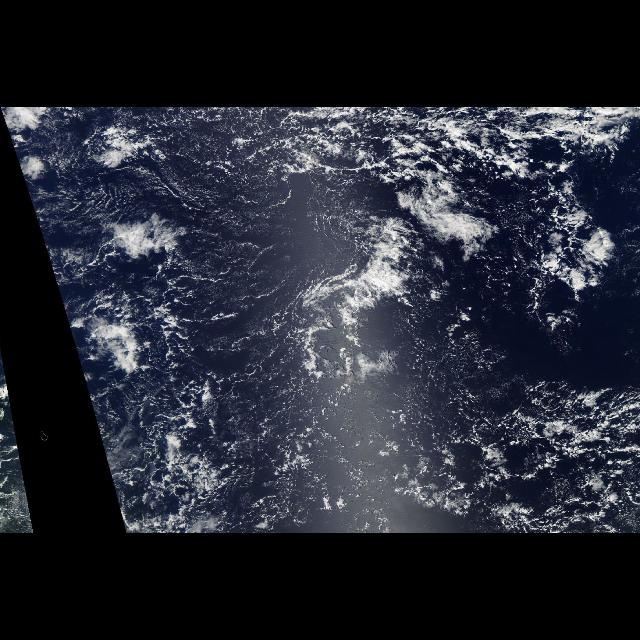Fish: (245, 110, 640, 370)
Flower: (0, 108, 186, 372), (1, 340, 8, 372)
Gravel: (108, 343, 640, 533)
Sugar: (9, 110, 636, 530), (8, 390, 34, 530)
